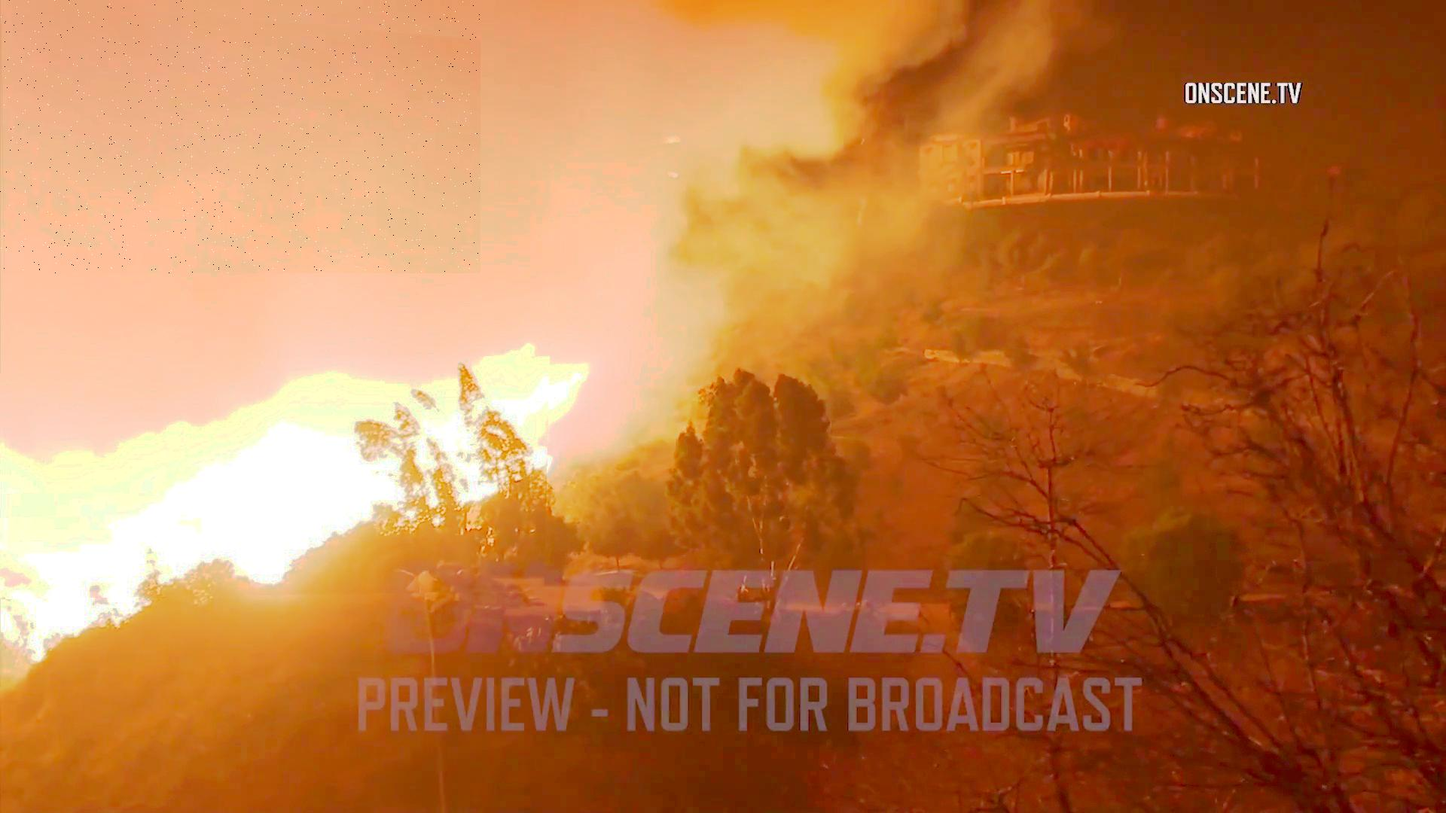fire: (0, 356, 550, 599)
smoke: (0, 0, 480, 273)
